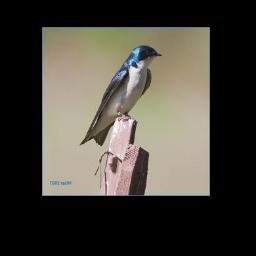Swallow: (78, 44, 163, 147)
